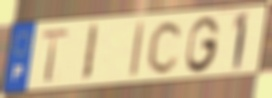1: (231, 11, 252, 73)
C: (145, 19, 185, 76)
G: (184, 14, 222, 74)
I: (79, 23, 101, 85), (128, 19, 147, 80)
T: (38, 27, 72, 86)
